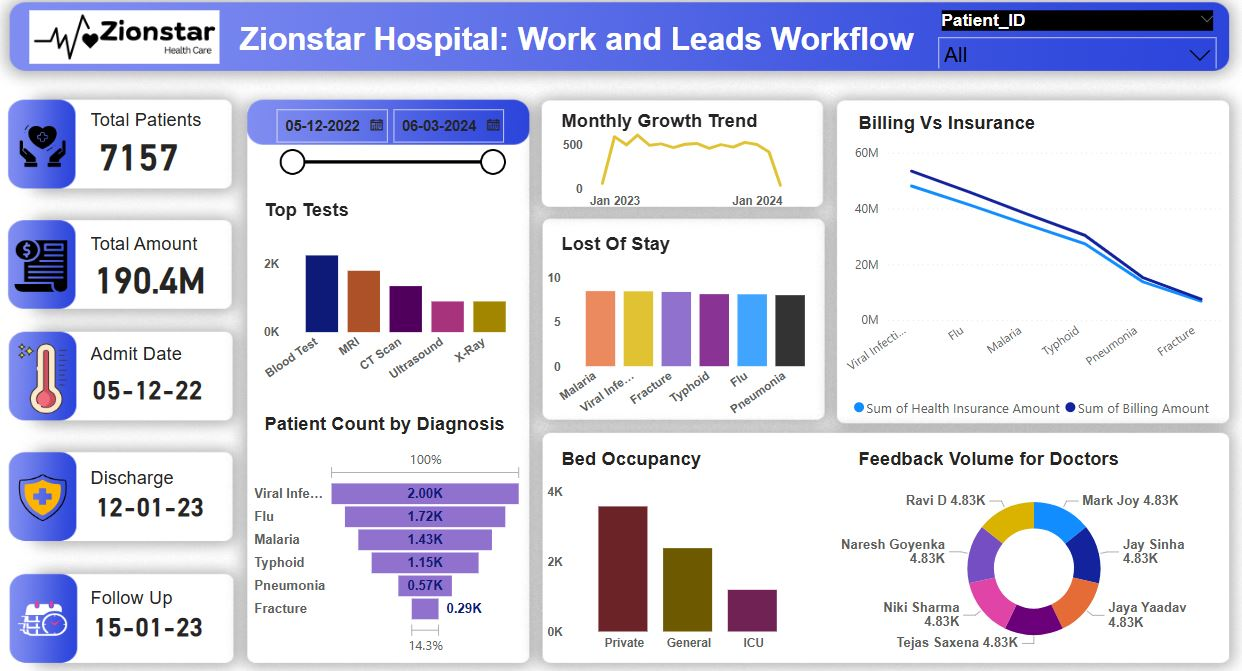

The page's visual inventory and layout, read from the dashboard file:
{"tool":"powerbi","page":{"name":"Page 1","canvas":[1280,720],"ordinal":0},"visuals":[{"type":"card","fields":{"Values":["Sheet1.Admit_Date"]},"box":[98.8,379.5,124.1,57.8],"z":0},{"type":"card","fields":{"Values":["Sheet1.Discharge_Date"]},"box":[100,504.8,126.5,44.6],"z":1000},{"type":"card","fields":{"Values":["Sheet1.Followup Date"]},"box":[100,627.7,122.9,39.8],"z":2000},{"type":"card","fields":{"Values":["Sheet1.Billing Amount"]},"box":[98.8,265.1,128.9,60.2],"z":3000},{"type":"slicer","fields":{"Values":["Sheet1.Admit_Date"]},"box":[263.9,116.9,281.9,91.6],"z":4000},{"type":"columnChart","fields":{"Category":["Sheet1.Bed_Occupancy"],"Y":["Sheet1.Bed_Occupancy"]},"box":[559,498.8,271.1,183.1],"z":5000},{"type":"donutChart","fields":{"Category":["Sheet1.Doctor"],"Y":["Sheet1.Feedback"]},"box":[857.8,498.8,394,183.1],"z":6000},{"type":"funnel","fields":{"Category":["Sheet1.Diagnosis"],"Y":["Sheet1.Admit_Date"]},"box":[263.9,463.9,281.9,218.1],"z":7000},{"type":"columnChart","fields":{"Category":["Sheet1.Diagnosis"],"Y":["Sheet1.LengthOfStay"]},"box":[559,281.9,286.7,163.9],"z":8000},{"type":"lineChart","fields":{"Category":["Sheet1.Admit_Date.Variation.Date Hierarchy.Year","Sheet1.Admit_Date.Variation.Date Hierarchy.Month"],"Y":["Sheet1.Admit_Date"]},"box":[573.5,120.5,256.6,113.3],"z":9000},{"type":"columnChart","fields":{"Category":["Sheet1.Test"],"Y":["Sheet1.Test"]},"box":[263.9,233.7,281.9,181.9],"z":10000},{"type":"lineChart","fields":{"Y":["Sheet1.Health Insurance Amount","Sheet1.Billing Amount"],"Category":["Sheet1.Diagnosis"]},"box":[857.8,155.4,394,290.4],"z":11000},{"type":"card","fields":{"Values":["Sheet1.Patient_ID"]},"box":[98.8,142.2,106,59],"z":12000},{"type":"textbox","box":[98.8,120.5,141,42.2],"z":13000},{"type":"textbox","box":[98.8,247,130.1,42.2],"z":14000},{"type":"textbox","box":[98.8,357.8,130.1,42.2],"z":15000},{"type":"textbox","box":[98.8,483.1,130.1,42.2],"z":16000},{"type":"textbox","box":[98.8,604.8,130.1,42.2],"z":17000},{"type":"textbox","box":[274.7,212,141,34.9],"z":18000},{"type":"textbox","box":[274.7,428.9,271.1,34.9],"z":19000},{"type":"textbox","box":[573.6,122.2,227.8,38.9],"z":20000},{"type":"textbox","box":[573.5,247,141,34.9],"z":21000},{"type":"textbox","box":[573.5,463.9,227.7,34.9],"z":22000},{"type":"textbox","box":[873.5,463.9,378.3,34.9],"z":23000},{"type":"textbox","box":[873.5,124.1,227.7,34.9],"z":24000},{"type":"slicer","fields":{"Values":["Sheet1.Patient_ID"]},"box":[948.7,20.8,300.5,64.3],"z":25000},{"type":"image","box":[35.9,20.8,202.2,64.3],"z":26000},{"type":"textbox","box":[226.8,32.1,733.2,52.9],"z":27000}]}

Visuals, with their boxes on the page's 1280x720 design canvas (x1, y1, x2, y2). These are canvas units, not pixel positions in the 1242x671 screenshot, which may show the page scaled, cropped or inside an application window:
card - Sheet1.Admit_Date: detection(99, 380, 223, 437)
card - Sheet1.Discharge_Date: detection(100, 505, 226, 549)
card - Sheet1.Followup Date: detection(100, 628, 223, 668)
card - Sheet1.Billing Amount: detection(99, 265, 228, 325)
slicer - Sheet1.Admit_Date: detection(264, 117, 546, 208)
columnChart - Sheet1.Bed_Occupancy x Sheet1.Bed_Occupancy: detection(559, 499, 830, 682)
donutChart - Sheet1.Doctor x Sheet1.Feedback: detection(858, 499, 1252, 682)
funnel - Sheet1.Diagnosis x Sheet1.Admit_Date: detection(264, 464, 546, 682)
columnChart - Sheet1.Diagnosis x Sheet1.LengthOfStay: detection(559, 282, 846, 446)
lineChart - Sheet1.Admit_Date.Variation.Date Hierarchy.Year x Sheet1.Admit_Date.Variation.Date Hierarchy.Month: detection(574, 120, 830, 234)
columnChart - Sheet1.Test x Sheet1.Test: detection(264, 234, 546, 416)
lineChart - Sheet1.Health Insurance Amount x Sheet1.Billing Amount: detection(858, 155, 1252, 446)
card - Sheet1.Patient_ID: detection(99, 142, 205, 201)
textbox: detection(99, 120, 240, 163)
textbox: detection(99, 247, 229, 289)
textbox: detection(99, 358, 229, 400)
textbox: detection(99, 483, 229, 525)
textbox: detection(99, 605, 229, 647)
textbox: detection(275, 212, 416, 247)
textbox: detection(275, 429, 546, 464)
textbox: detection(574, 122, 801, 161)
textbox: detection(574, 247, 714, 282)
textbox: detection(574, 464, 801, 499)
textbox: detection(874, 464, 1252, 499)
textbox: detection(874, 124, 1101, 159)
slicer - Sheet1.Patient_ID: detection(949, 21, 1249, 85)
image: detection(36, 21, 238, 85)
textbox: detection(227, 32, 960, 85)
